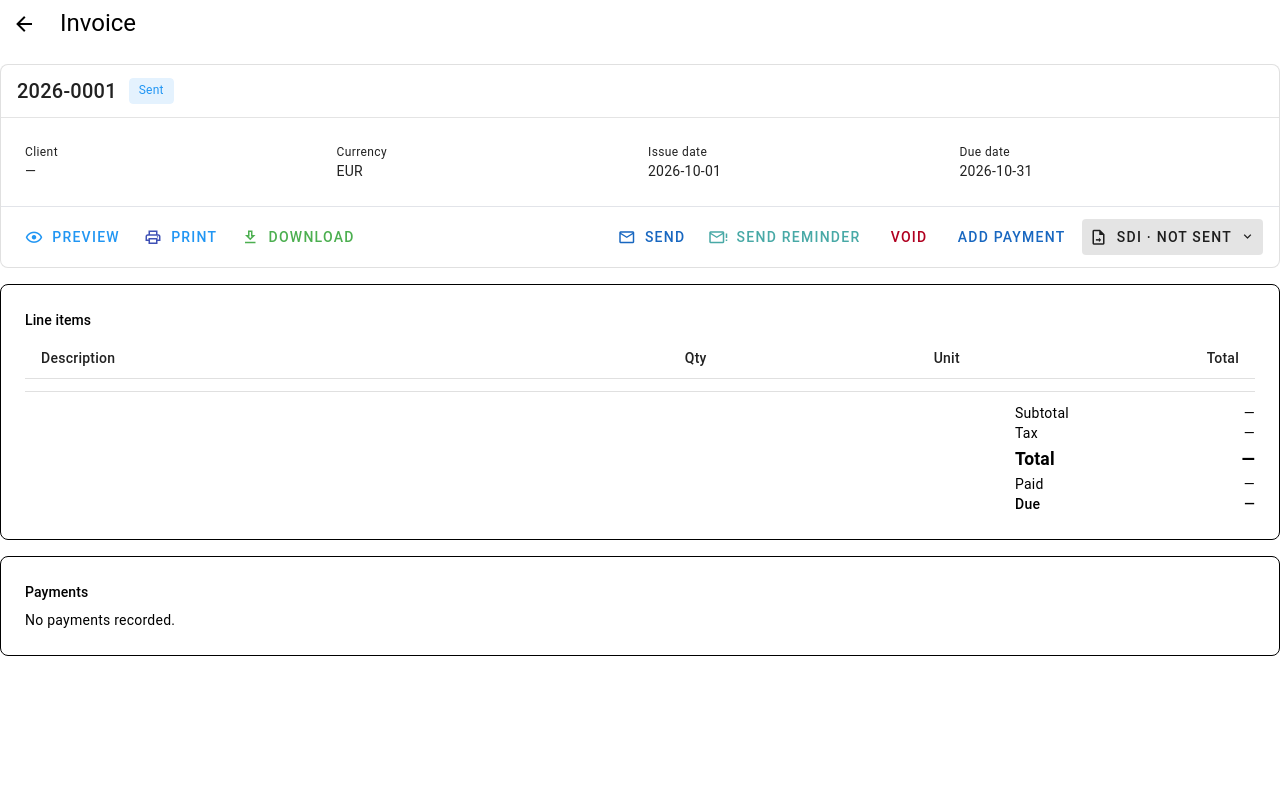
Test: InvoiceDetail — SdI header toggle › not sent: collapsed, calm 'SdI · Not sent' next to Add payment, never disabled, no chip; click expands; Send is inside
Click the button with test id "einvoice-header-action" at (1172, 237), box [1082,219,1263,255]
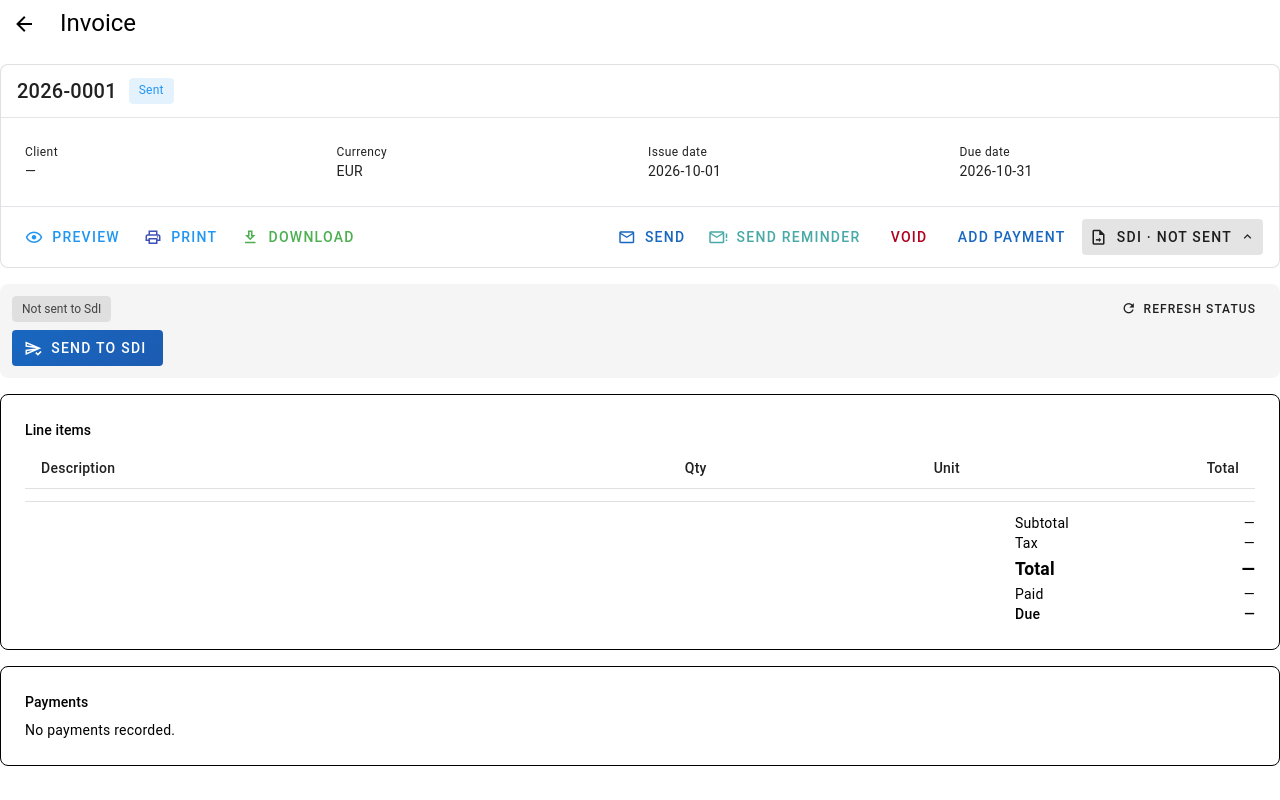
Click the button with test id "einvoice-action-submit" at (87, 348), box [12,330,163,366]
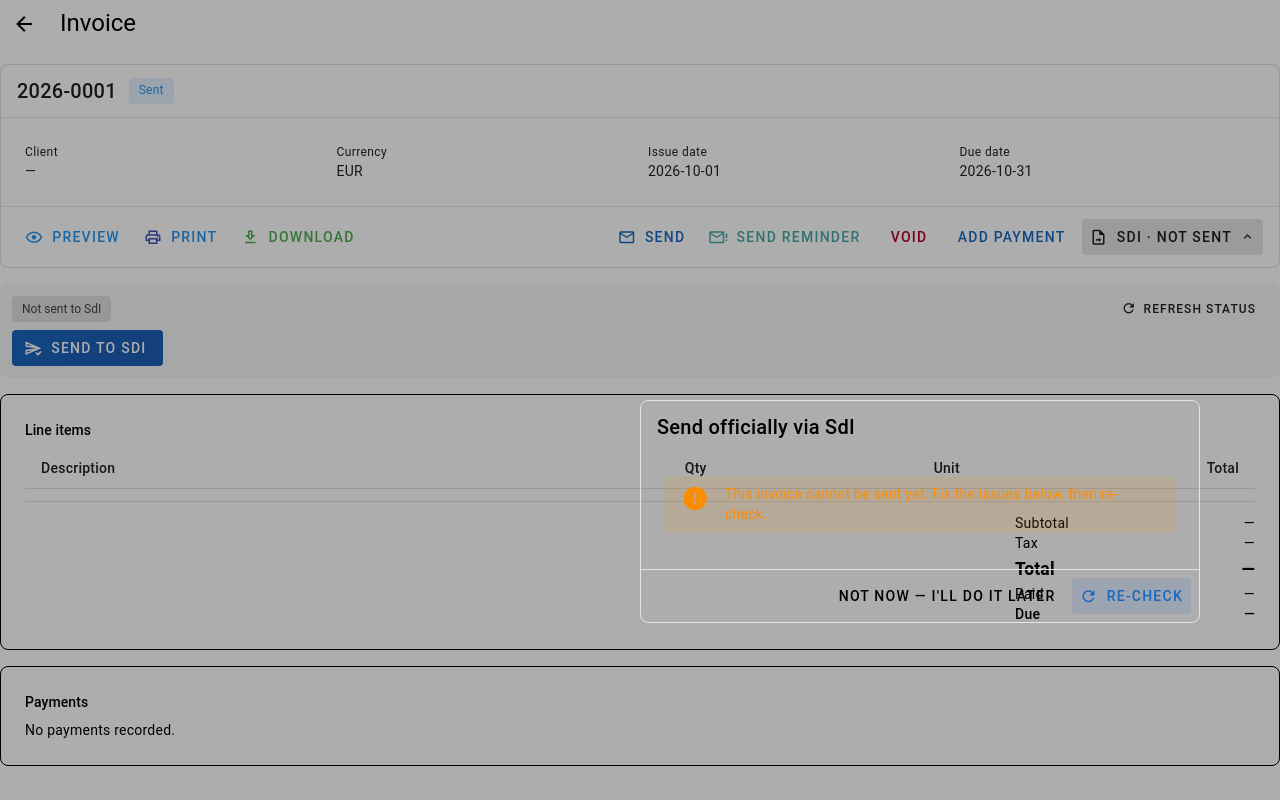
Expected: the element with test id "einvoice-submit-step" is shown, [640,400,1200,623]
